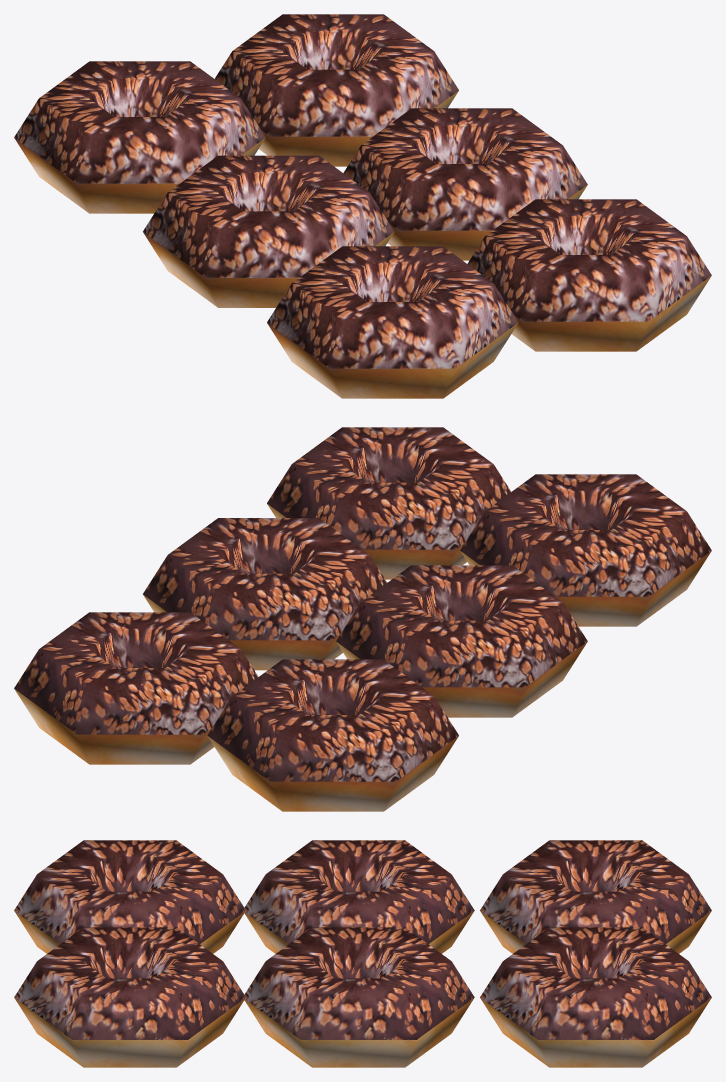
Rendered from donutchocopile.fbx.
The picture shows the model from 3 angles, top to bottom: view 1: azimuth 30°, elevation 25°; view 2: azimuth 150°, elevation 25°; view 3: azimuth 270°, elevation 25°; orthographic projection. The views are drawn at different scales.
Parts seen in each view (by area): view 1: DonutSingle.003; view 2: DonutSingle.003; view 3: DonutSingle.003.
Part boxes in pixels (bbox=[...]): DonutSingle.003: bbox=[14, 14, 711, 398]; DonutSingle.003: bbox=[14, 427, 711, 811]; DonutSingle.003: bbox=[14, 840, 711, 1067].
Size of the model in its own units: 94.07 by 18.45 by 161.
